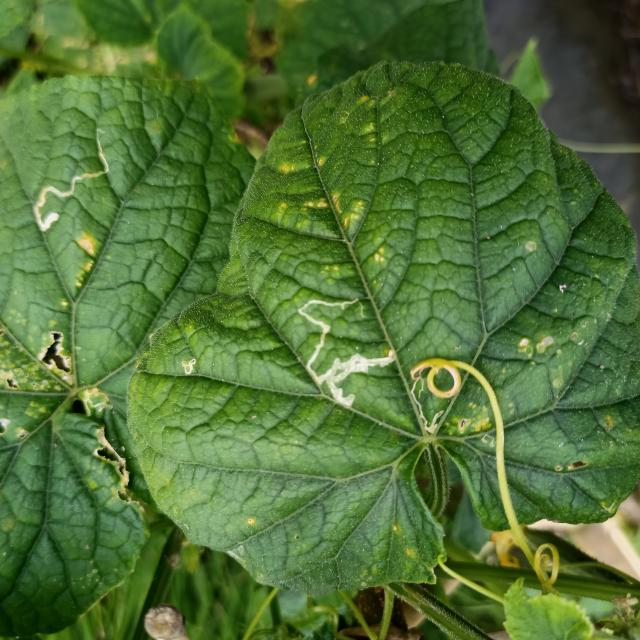disease_cucumber: (300, 186, 362, 228), (446, 404, 489, 434)
